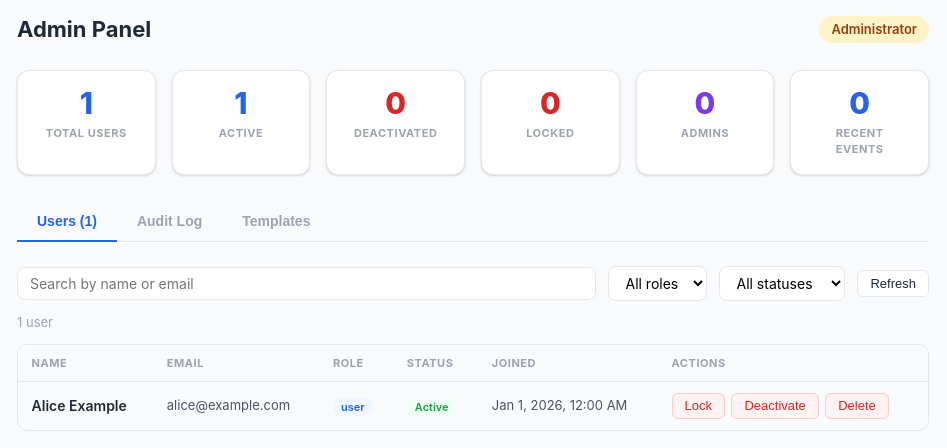
Scenario: AdminPanel tabs › switches to templates tab and loads templates
Click the button "Templates": (276,222) [222,203,330,242]
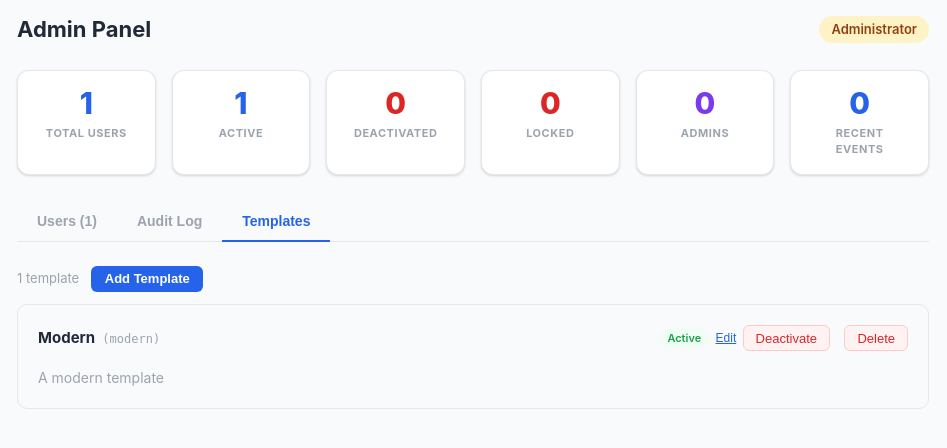
Now the text "Modern" is shown, box [38,328,95,347]
